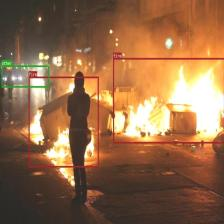fire: (112, 58, 224, 143), (29, 76, 98, 168)
